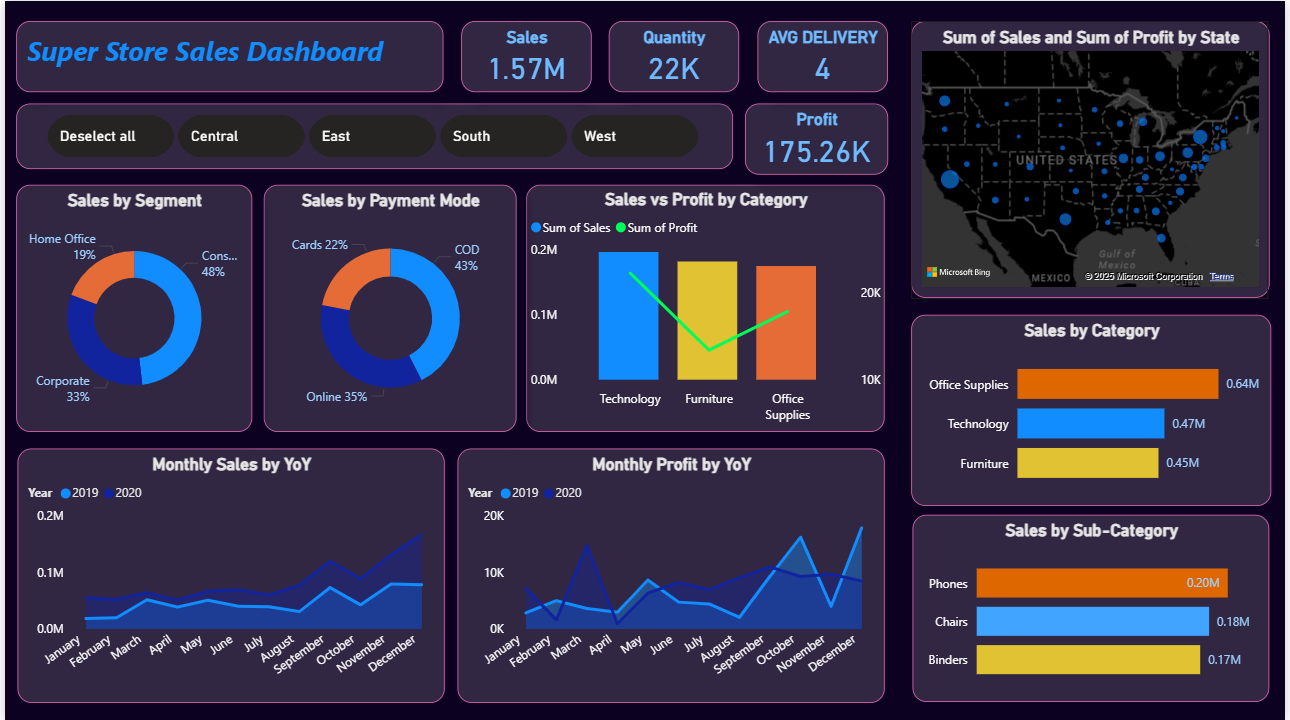

Layout of this report page (visuals, bound fields, positions):
{"tool":"powerbi","page":{"name":"Page 1","canvas":[1280,720],"ordinal":0},"visuals":[{"type":"clusteredBarChart","title":"Sales by Category","fields":{"Category":["SuperStore_Sales_Dataset.Category"],"Y":["Sum(SuperStore_Sales_Dataset.Sales)"]},"box":[905.7,314.3,360,191.4],"z":0},{"type":"clusteredBarChart","title":"Sales by Sub-Category","fields":{"Y":["Sum(SuperStore_Sales_Dataset.Sales)"],"Category":["SuperStore_Sales_Dataset.Sub-Category"]},"box":[907.1,514.3,357.1,187.1],"z":1000},{"type":"lineClusteredColumnComboChart","title":"Sales vs Profit by Category","fields":{"Category":["SuperStore_Sales_Dataset.Category"],"Y":["Sum(SuperStore_Sales_Dataset.Sales)"],"Y2":["Sum(SuperStore_Sales_Dataset.Profit)"]},"box":[521.4,184.3,358.6,247.1],"z":2000},{"type":"areaChart","title":"Monthly Sales by YoY","fields":{"Category":["SuperStore_Sales_Dataset.Order Date.Variation.Date Hierarchy.Month"],"Y":["Sum(SuperStore_Sales_Dataset.Sales)"],"Series":["SuperStore_Sales_Dataset.Order Date.Variation.Date Hierarchy.Year"]},"box":[12.9,447.1,427.1,254.3],"z":3000},{"type":"areaChart","title":"Monthly Profit by YoY","fields":{"Y":["Sum(SuperStore_Sales_Dataset.Profit)"],"Series":["SuperStore_Sales_Dataset.Order Date.Variation.Date Hierarchy.Year"],"Category":["SuperStore_Sales_Dataset.Order Date.Variation.Date Hierarchy.Month"]},"box":[452.9,447.1,427.1,254.3],"z":4000},{"type":"map","fields":{"Category":["SuperStore_Sales_Dataset.State"],"Size":["Sum(SuperStore_Sales_Dataset.Sales)"]},"box":[905.7,20,358.6,277.1],"z":5000},{"type":"donutChart","title":"Sales by Payment Mode","fields":{"Y":["Sum(SuperStore_Sales_Dataset.Sales)"],"Category":["SuperStore_Sales_Dataset.Payment Mode"]},"box":[258.6,184.3,252.9,247.1],"z":6000},{"type":"donutChart","title":"Sales by Segment","fields":{"Category":["SuperStore_Sales_Dataset.Segment"],"Y":["Sum(SuperStore_Sales_Dataset.Sales)"]},"box":[11.4,184.3,235.7,247.1],"z":7000},{"type":"advancedSlicerVisual","fields":{"Values":["SuperStore_Sales_Dataset.Region"]},"box":[11.4,102.9,717.1,65.7],"z":8000},{"type":"textbox","box":[11.4,20,427.1,71.4],"z":9000},{"type":"card","title":"Sales","fields":{"Values":["Sum(SuperStore_Sales_Dataset.Sales)"]},"box":[455.7,20,130,71.4],"z":10000},{"type":"card","title":"Quantity","fields":{"Values":["Sum(SuperStore_Sales_Dataset.Quantity)"]},"box":[604.3,20,130,71.4],"z":11000},{"type":"card","title":"Profit","fields":{"Values":["Sum(SuperStore_Sales_Dataset.Profit)"]},"box":[740,102.9,142.9,71.4],"z":12000},{"type":"card","title":"AVG DELIVERY","fields":{"Values":["Avg(SuperStore_Sales_Dataset.AvgDelivery)"]},"box":[752.9,20,130,71.4],"z":13000}]}

Visuals, with their boxes in screenshot pixels (x1, y1, x2, y2), scaled from the page's 1280x720 canvas onto the 1290x720 screenshot:
"Sales by Category" clusteredBarChart: detection(913, 314, 1276, 506)
"Sales by Sub-Category" clusteredBarChart: detection(914, 514, 1274, 701)
"Sales vs Profit by Category" lineClusteredColumnComboChart: detection(525, 184, 887, 431)
"Monthly Sales by YoY" areaChart: detection(13, 447, 443, 701)
"Monthly Profit by YoY" areaChart: detection(456, 447, 887, 701)
map - SuperStore_Sales_Dataset.State x Sum(SuperStore_Sales_Dataset.Sales): detection(913, 20, 1274, 297)
"Sales by Payment Mode" donutChart: detection(261, 184, 515, 431)
"Sales by Segment" donutChart: detection(11, 184, 249, 431)
advancedSlicerVisual - SuperStore_Sales_Dataset.Region: detection(11, 103, 734, 169)
textbox: detection(11, 20, 442, 91)
"Sales" card: detection(459, 20, 590, 91)
"Quantity" card: detection(609, 20, 740, 91)
"Profit" card: detection(746, 103, 890, 174)
"AVG DELIVERY" card: detection(759, 20, 890, 91)
